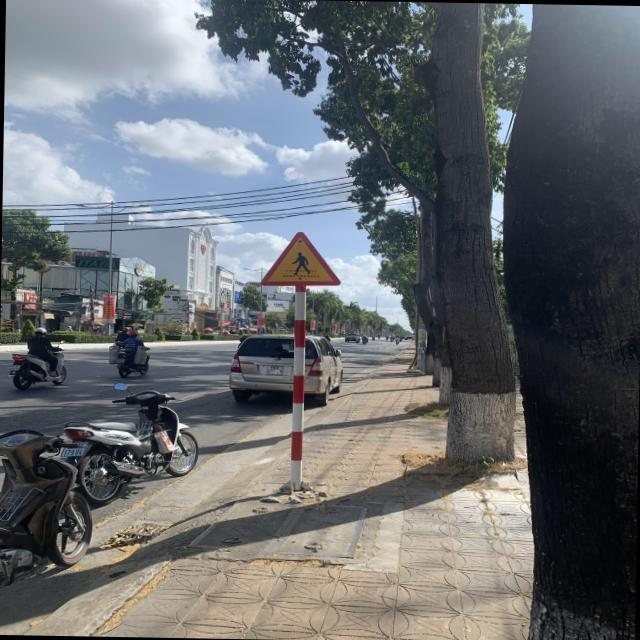Duong_Nguoi_Di_Bo_Sang_Ngang: (260, 231, 340, 285)
